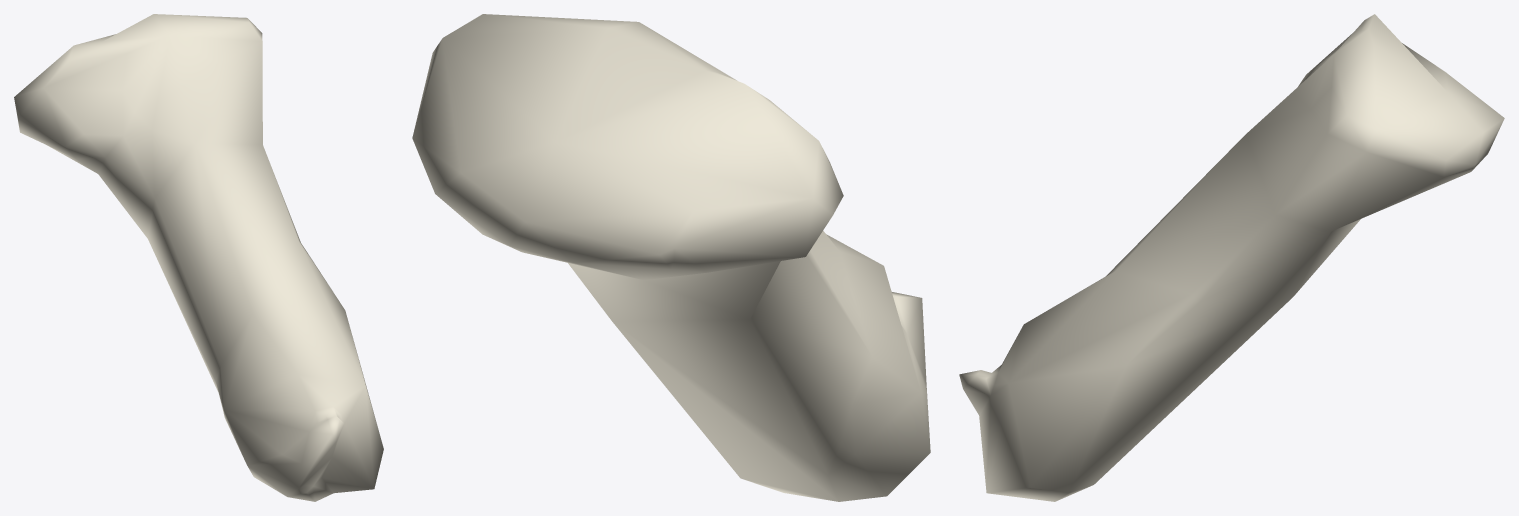
3 views of the same model, side by side, from view 1: azimuth 30°, elevation 25°; view 2: azimuth 150°, elevation 25°; view 3: azimuth 270°, elevation 25° (orthographic). The views are drawn at different scales.
Visible parts, largest first — view 1: ZA_0c77c2d8ff99f26b; view 2: ZA_0c77c2d8ff99f26b; view 3: ZA_0c77c2d8ff99f26b.
Part boxes in pixels (x1=…): ZA_0c77c2d8ff99f26b: x1=14, y1=14, x2=383, y2=501; ZA_0c77c2d8ff99f26b: x1=412, y1=14, x2=930, y2=501; ZA_0c77c2d8ff99f26b: x1=959, y1=14, x2=1504, y2=501.
Bounding box in the file's own units: 0.00858 × 0.0131 × 0.0148.
